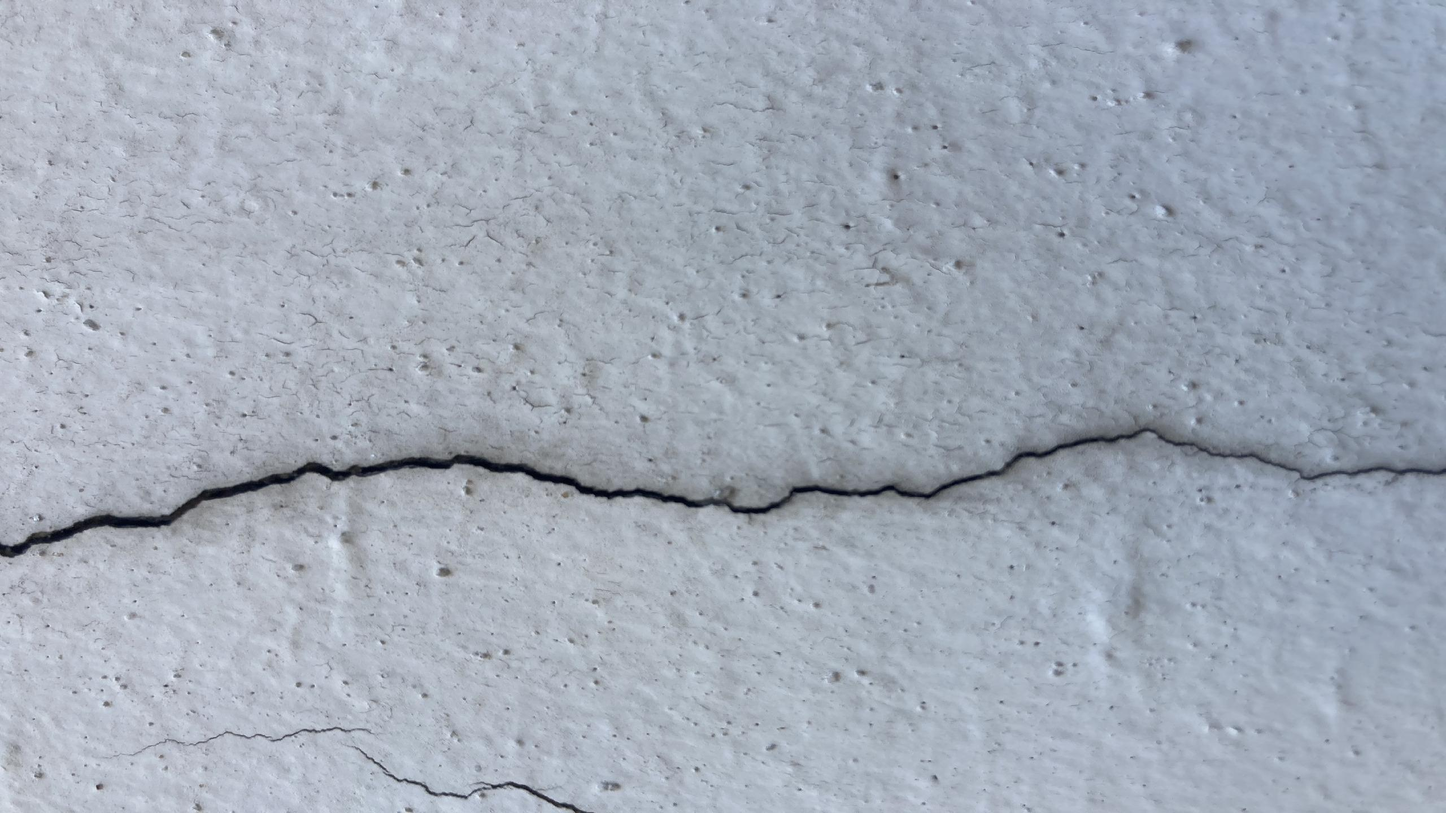crack: (1, 428, 1445, 556), (351, 746, 589, 812), (129, 726, 372, 756)
